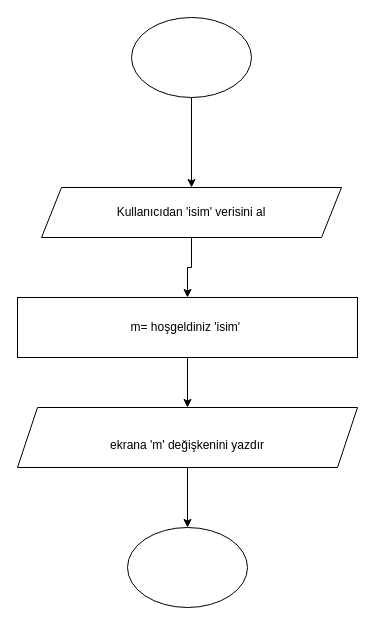
Some shapes in this 375 by 625 pixel diagram are drawn without their labels. The box of each missing label's shape, as (x1, y1, x2, y2) in pixels:
BAŞLA: (130, 16, 252, 98)
BİTİR: (126, 526, 248, 608)
